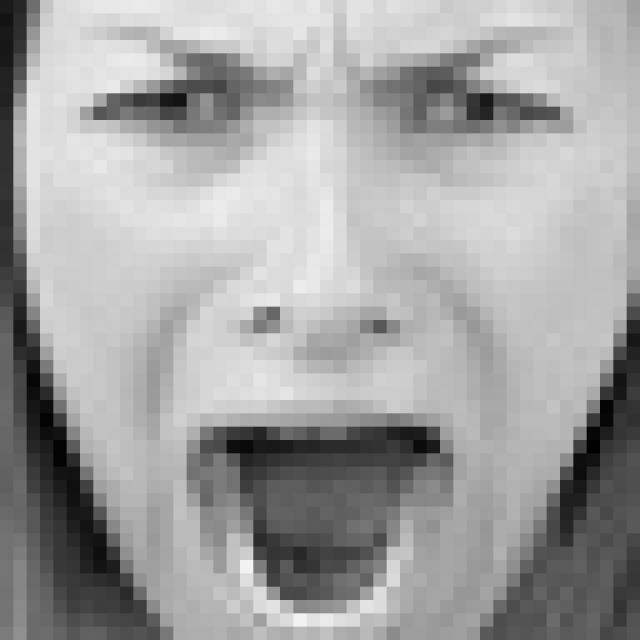angry: (67, 18, 581, 640)
